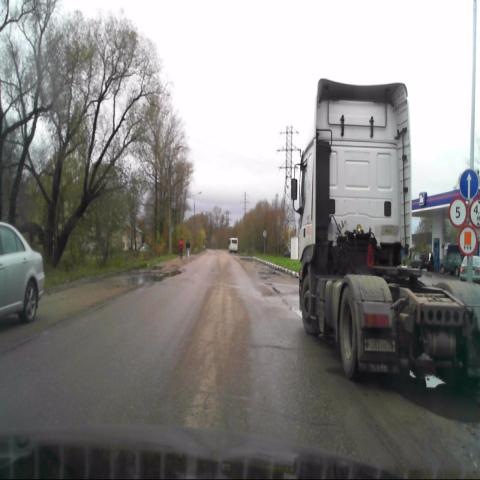3_24: (448, 197, 467, 230)
3_32: (459, 226, 479, 255)
4_1_1: (460, 168, 478, 198)
